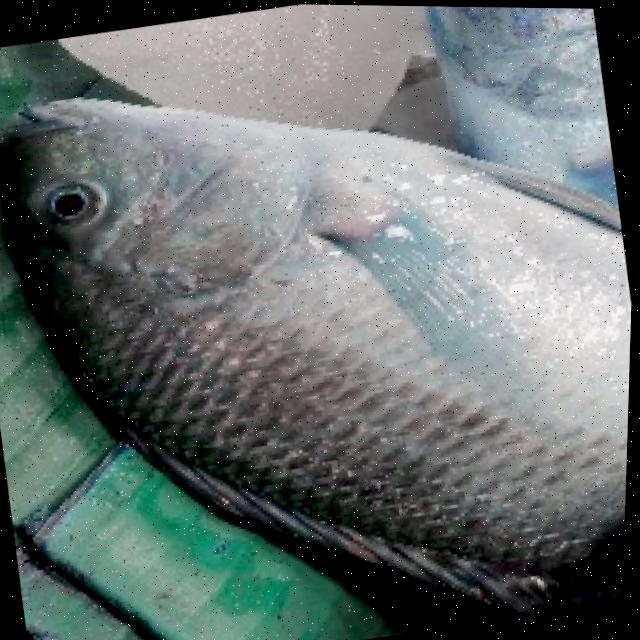Fresh: (0, 31, 614, 549)
